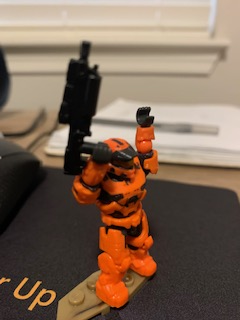rifle: (52, 39, 113, 179)
spartan: (73, 104, 161, 312)
up: (72, 105, 161, 216)
